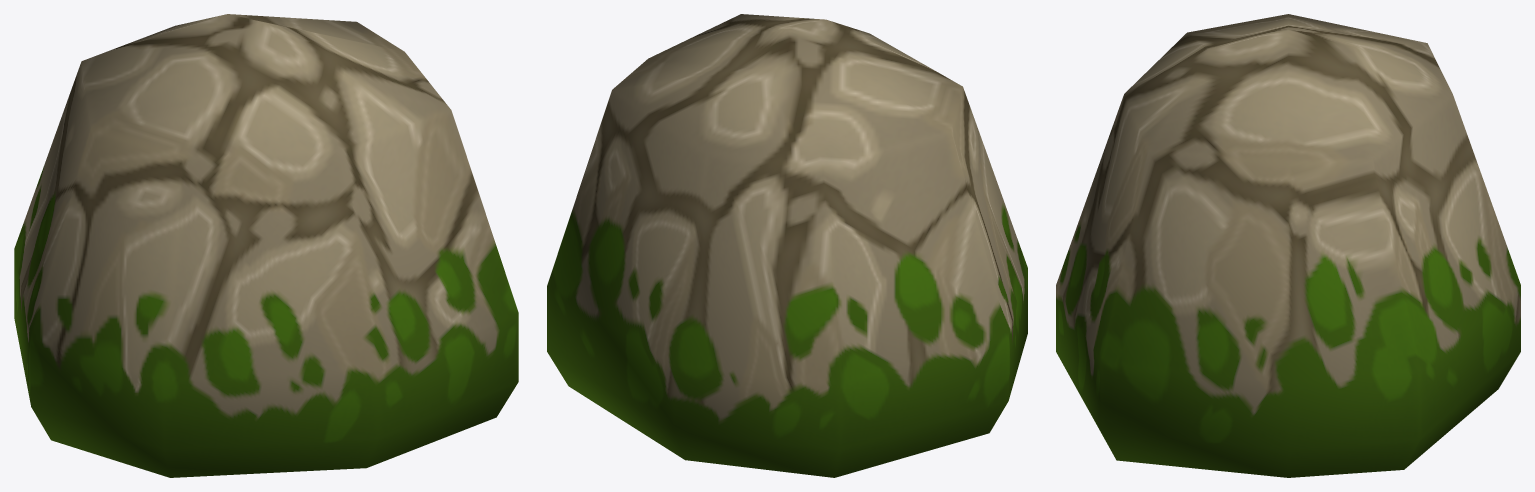
Rendered from Rock_05.FBX.
3 views of the same model, side by side, from view 1: azimuth 30°, elevation 25°; view 2: azimuth 150°, elevation 25°; view 3: azimuth 270°, elevation 25° (orthographic). The views are drawn at different scales.
Parts seen in each view (by area): view 1: Rock_05; view 2: Rock_05; view 3: Rock_05.
Part boxes in pixels (x1,y1,x2,y2): Rock_05: (14, 14, 518, 477); Rock_05: (547, 14, 1027, 477); Rock_05: (1056, 14, 1520, 477).
Size of the model in its own units: 28.12 by 22.76 by 26.69.
